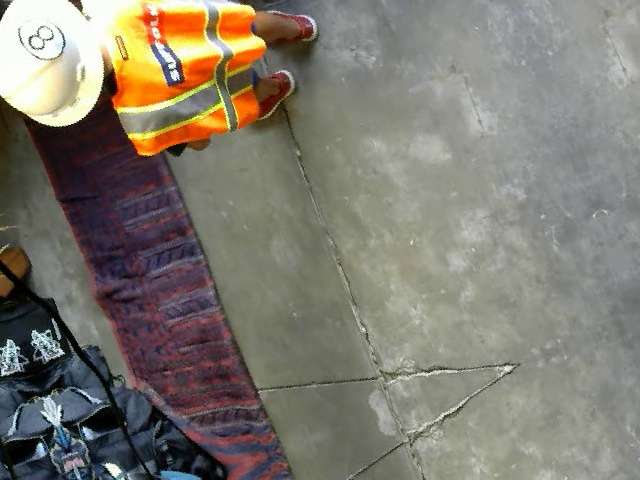eight: (10, 5, 70, 67)
